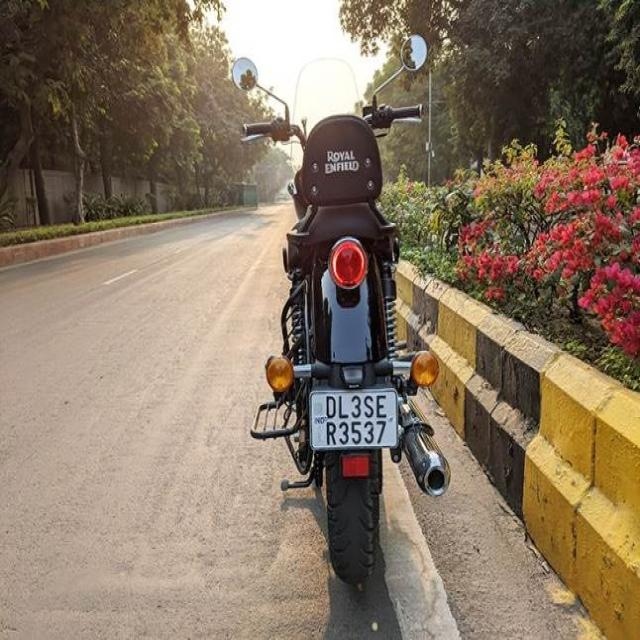number plate: (308, 387, 397, 451)
